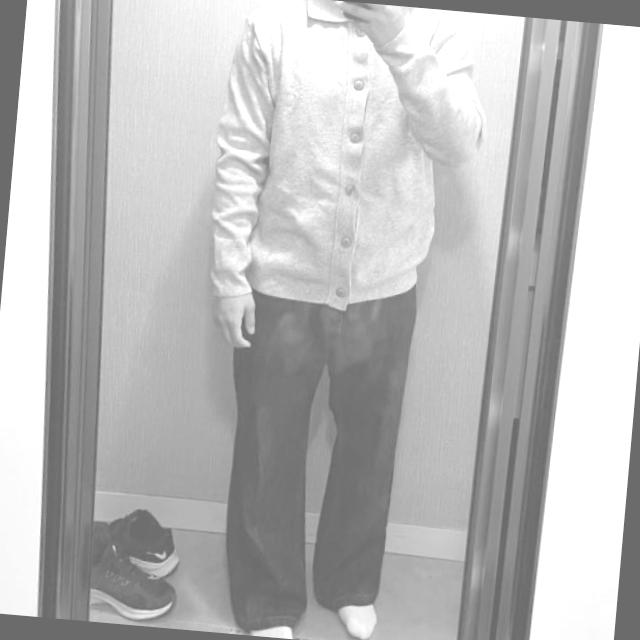cardigan: (200, 0, 496, 319)
slacks: (209, 262, 420, 628)
